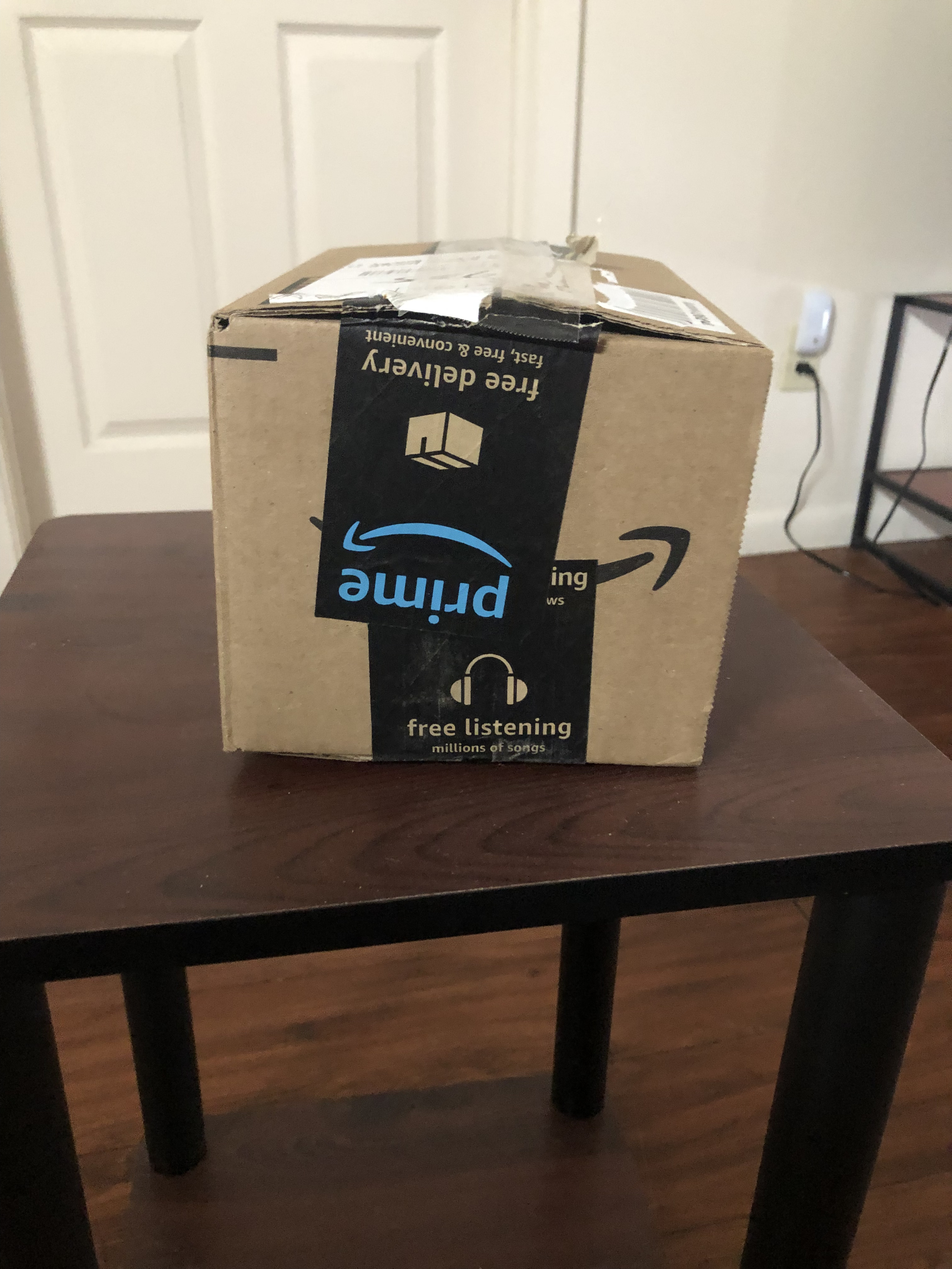package: (186, 238, 781, 783)
